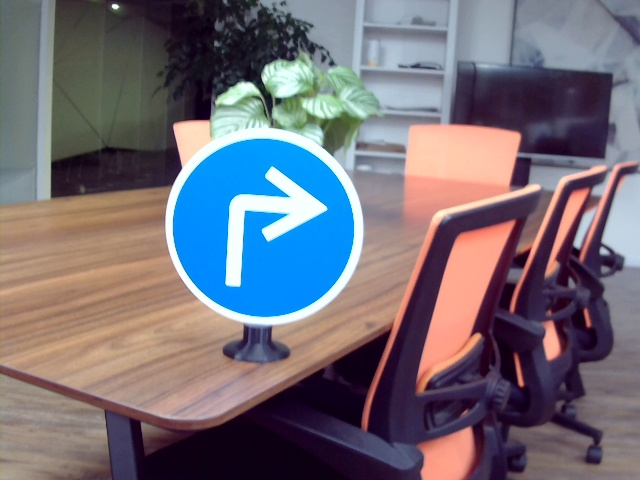turn_right: (217, 162, 326, 296)
